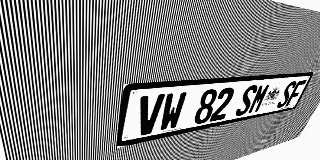2: (209, 87, 236, 122)
8: (192, 88, 220, 125)
F: (285, 80, 307, 107)
M: (247, 83, 271, 114)
S: (234, 85, 259, 117), (275, 81, 298, 108)
V: (135, 94, 165, 137)
W: (158, 92, 187, 132)
